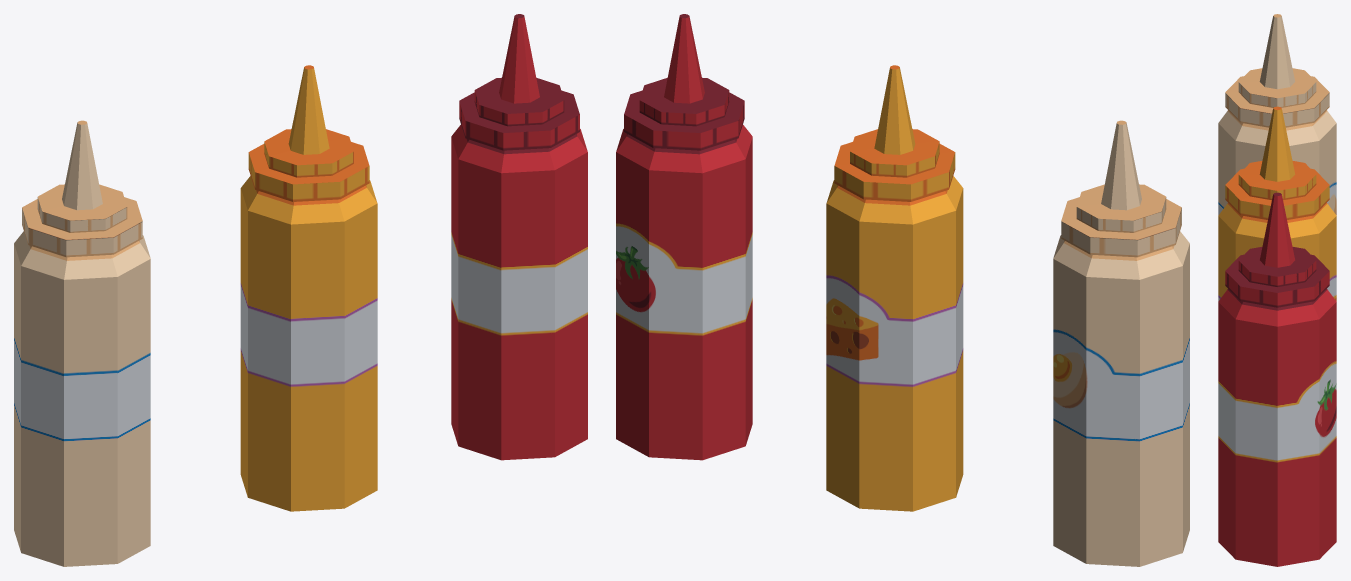
The model's file is f_sauces.fbx.
3 views of the same model, side by side, from view 1: azimuth 30°, elevation 25°; view 2: azimuth 150°, elevation 25°; view 3: azimuth 270°, elevation 25° (orthographic). The views are drawn at different scales.
Parts seen in each view (by area): view 1: f_saucebottle_02, f_saucebottle_03, f_saucebottle_01; view 2: f_saucebottle_02, f_saucebottle_03, f_saucebottle_01; view 3: f_saucebottle_01, f_saucebottle_03, f_saucebottle_02.
Part boxes in pixels (box(x1,y1,x2,y2)): f_saucebottle_02: box(240, 65, 377, 511); f_saucebottle_03: box(14, 120, 150, 566); f_saucebottle_01: box(451, 14, 587, 460); f_saucebottle_02: box(826, 65, 963, 511); f_saucebottle_03: box(1053, 120, 1189, 566); f_saucebottle_01: box(616, 14, 752, 460); f_saucebottle_01: box(1218, 192, 1336, 566); f_saucebottle_03: box(1218, 14, 1336, 214); f_saucebottle_02: box(1218, 106, 1336, 300).
Size of the model in its own units: 61.22 by 13.41 by 43.41.
